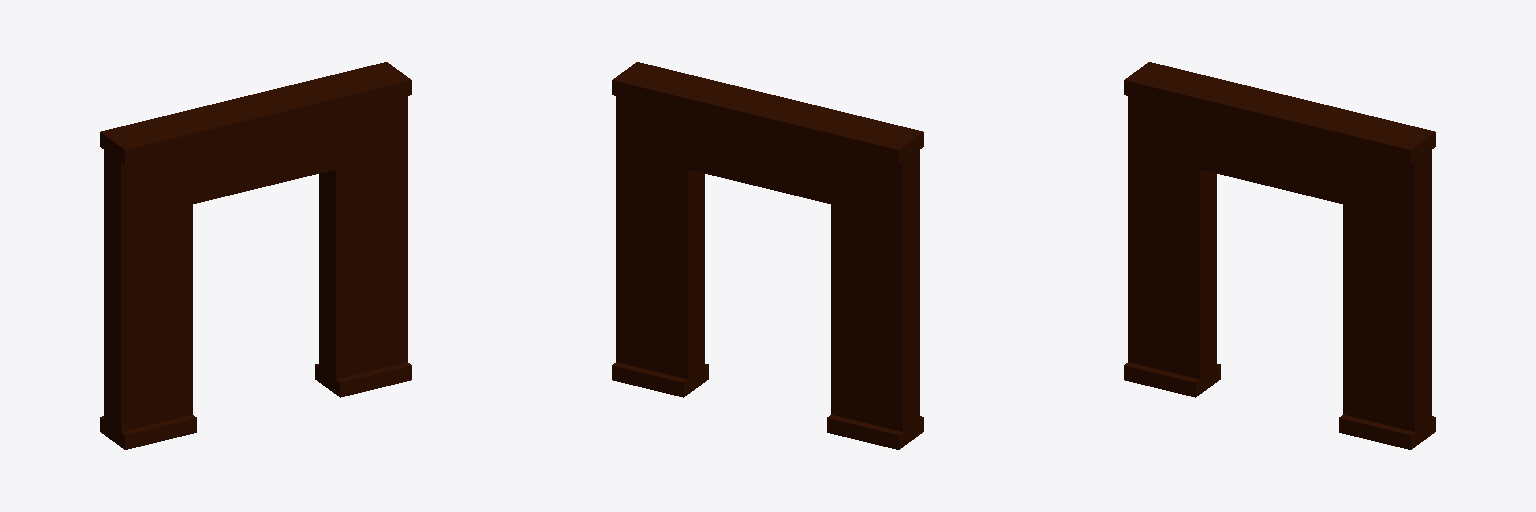
File: 4x4_wall_doorway.obj
3 views of the same model, side by side, from view 1: azimuth 30°, elevation 25°; view 2: azimuth 150°, elevation 25°; view 3: azimuth 330°, elevation 25° (orthographic).
Parts seen in each view (by area): view 1: wall; view 2: wall; view 3: wall.
Boxes of the visible parts, x1=… form: wall: x1=100, y1=62, x2=411, y2=449; wall: x1=612, y1=62, x2=923, y2=449; wall: x1=1124, y1=62, x2=1435, y2=449.
Size of the model in its own units: 4 by 4 by 0.607.